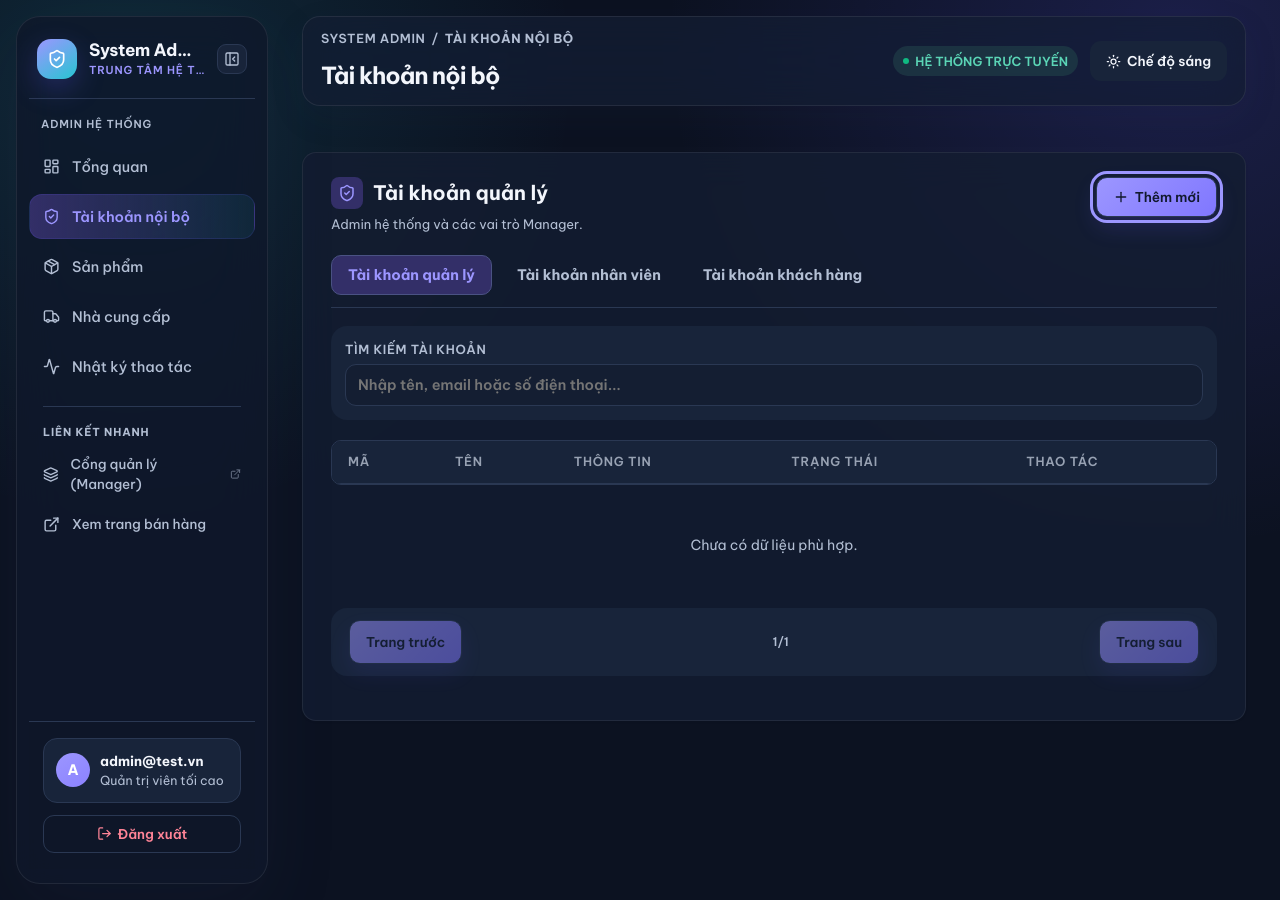
it: admin has only system navigation and accounts use admin APIs
Expected: the text "Chưa có dữ liệu phù hợp." is shown, [690,536,858,554]
Click the button "Thêm mới": x=1156, y=197 [1096,177,1217,217]
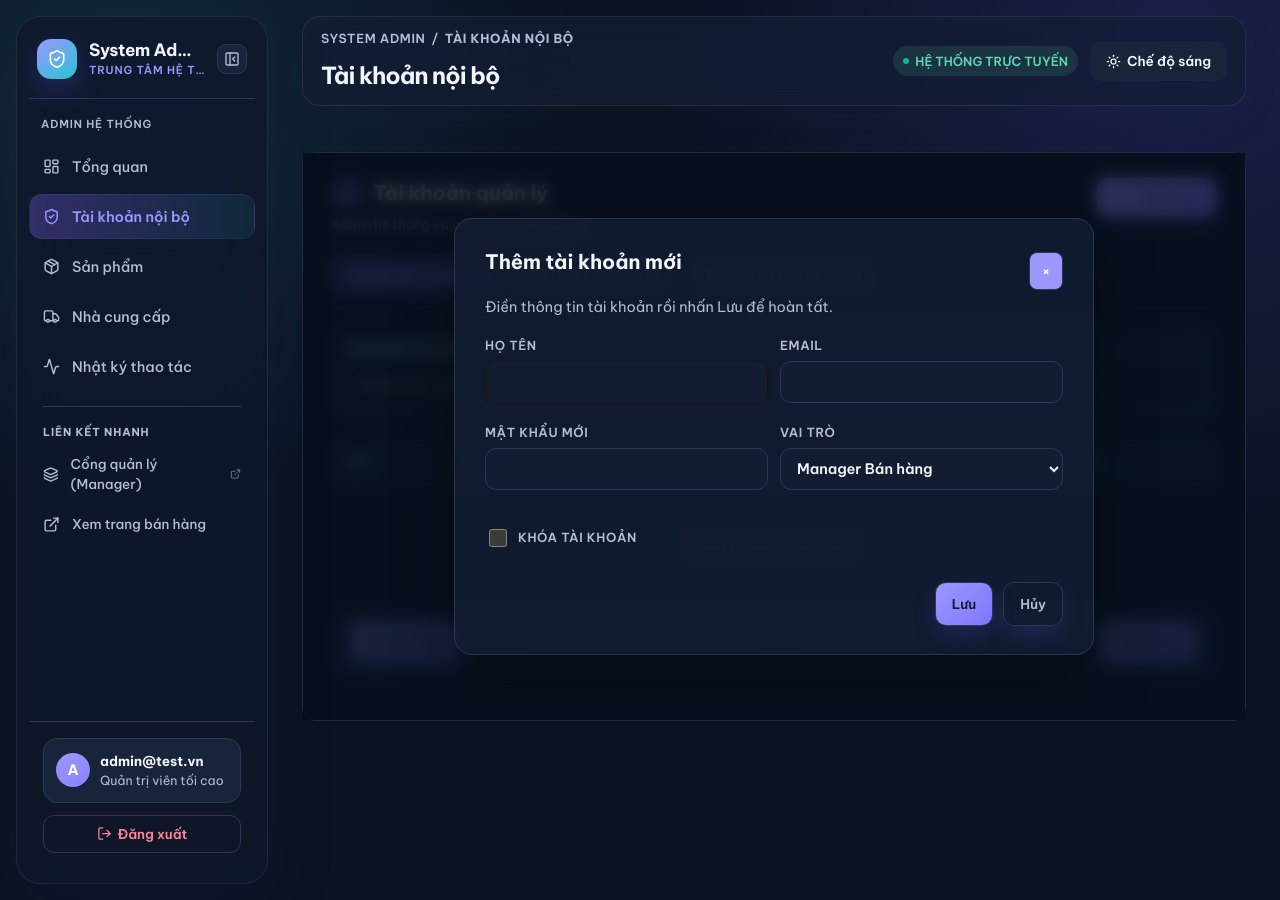
Expected: the dropdown labelled "Vai trò" shows "Manager Bán hàng", [780,448,1063,490]
In the field labelled "Họ tên": x=626, y=382 [485,361,768,403], type "Quản lý mới"
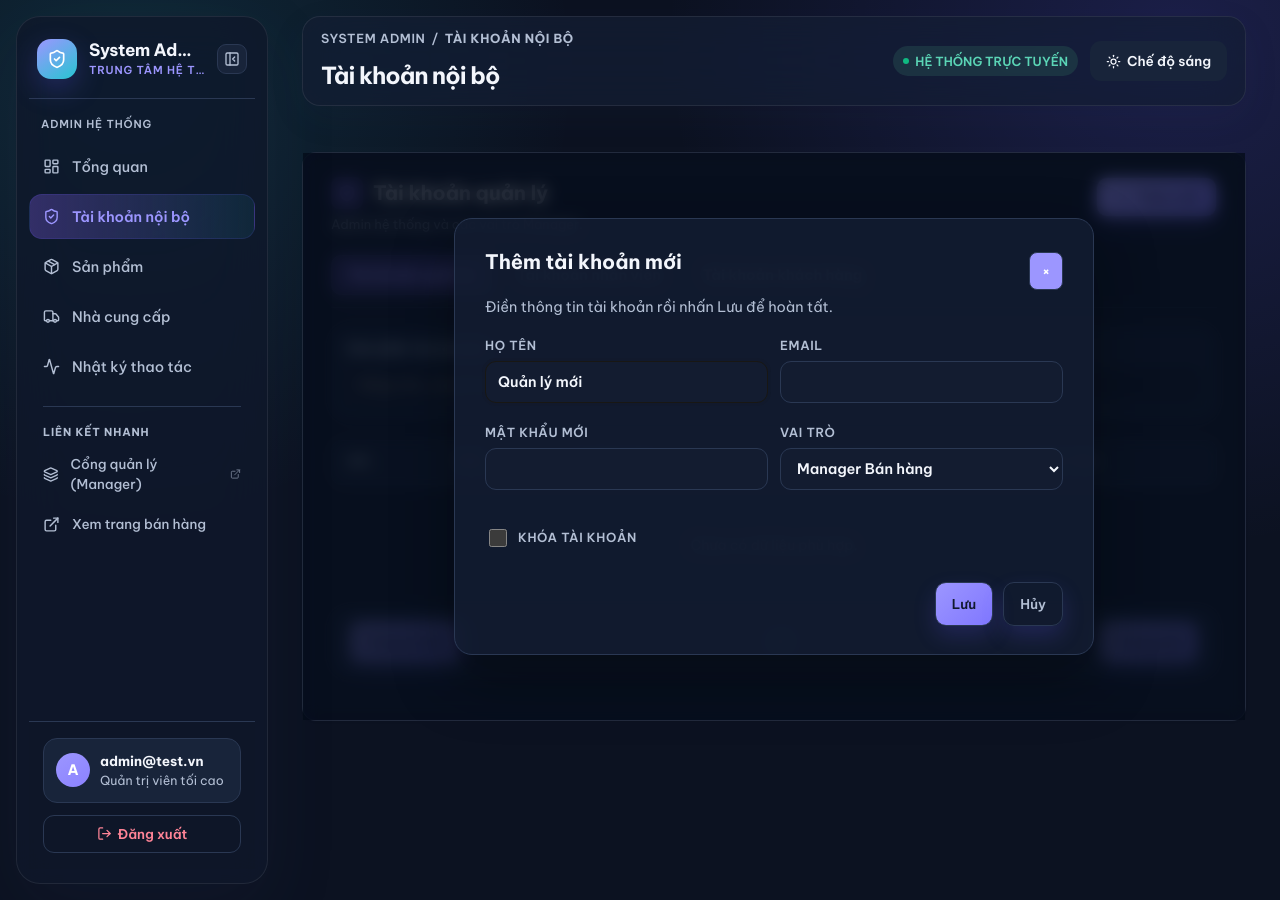
Press Escape in the dialog "Thêm tài khoản mới", box [454,218,1094,655]
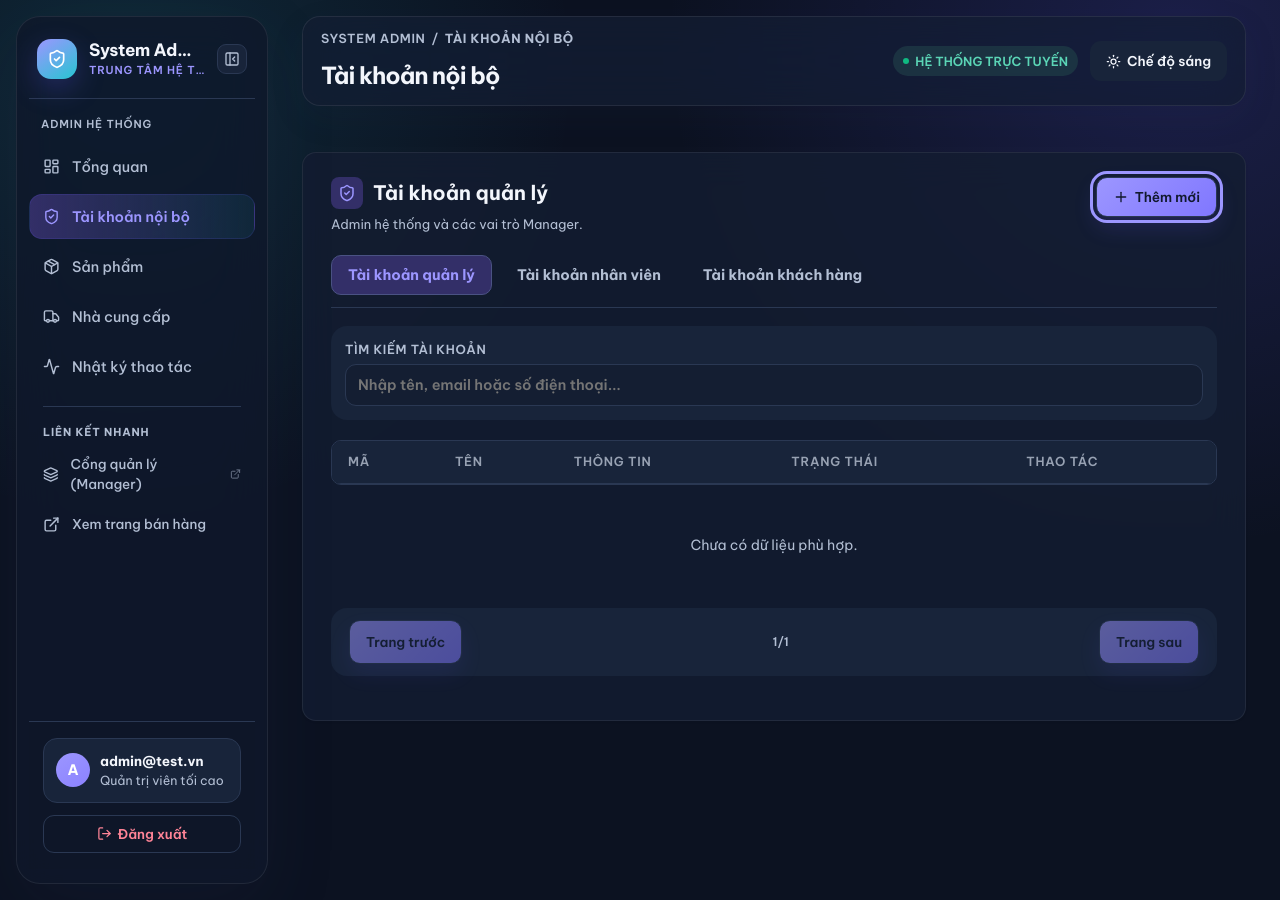
Expected: the dialog is gone
Click the button "Thêm mới": x=1156, y=197 [1096,177,1217,217]
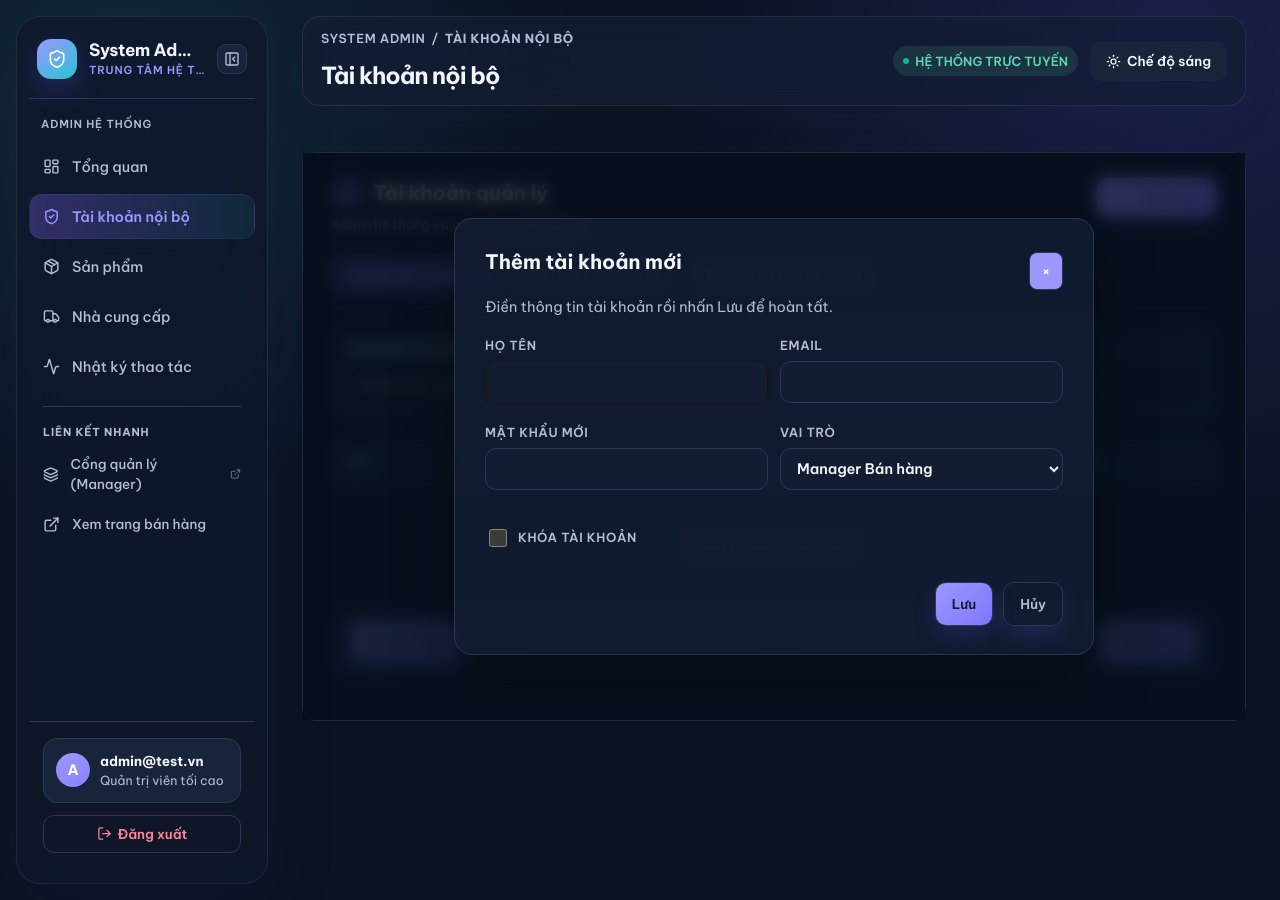
Expected: the field labelled "Họ tên" is empty, [485,361,768,403]
Click the button "Hủy": x=1033, y=604 [1003,582,1063,626]
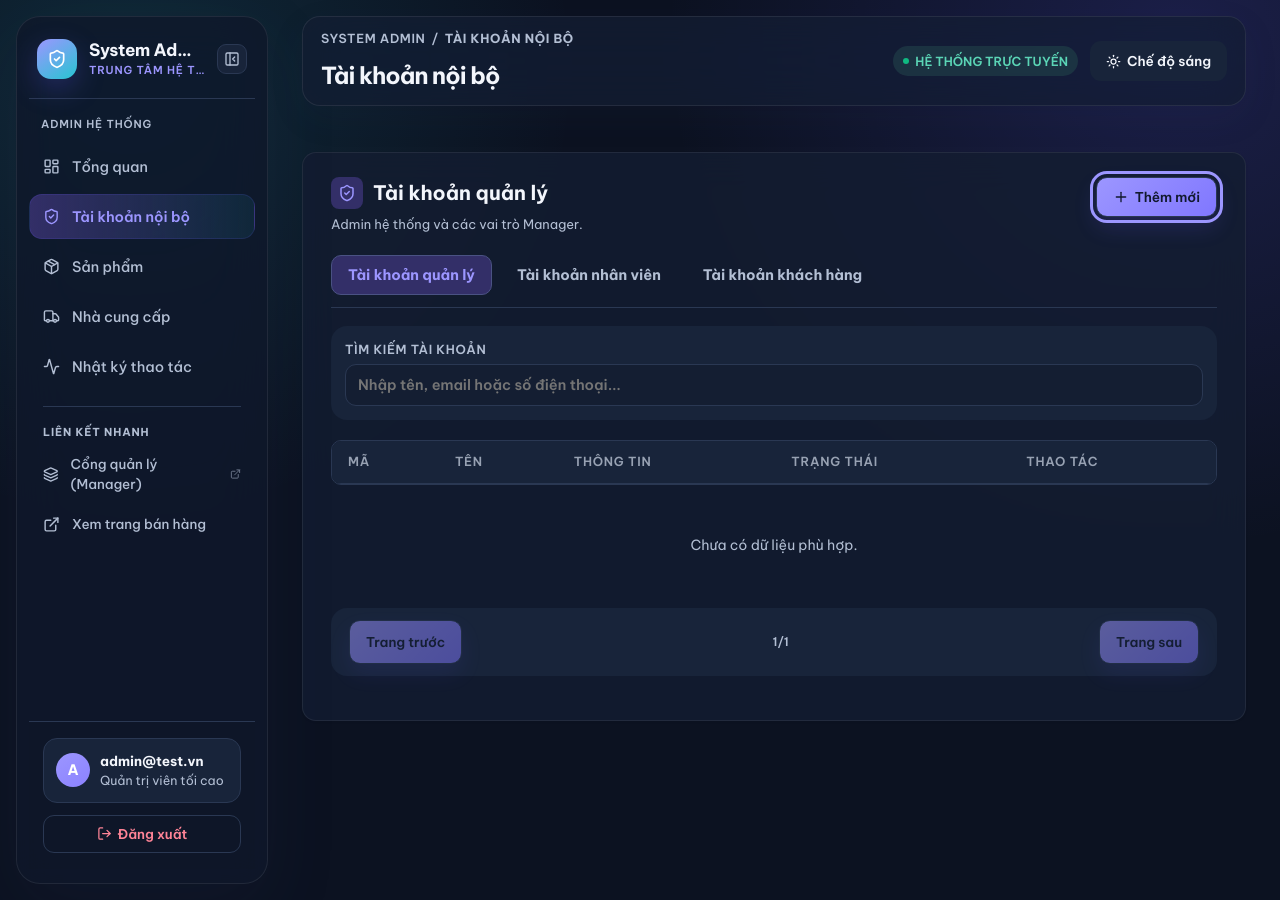
Expected: the dialog is gone
